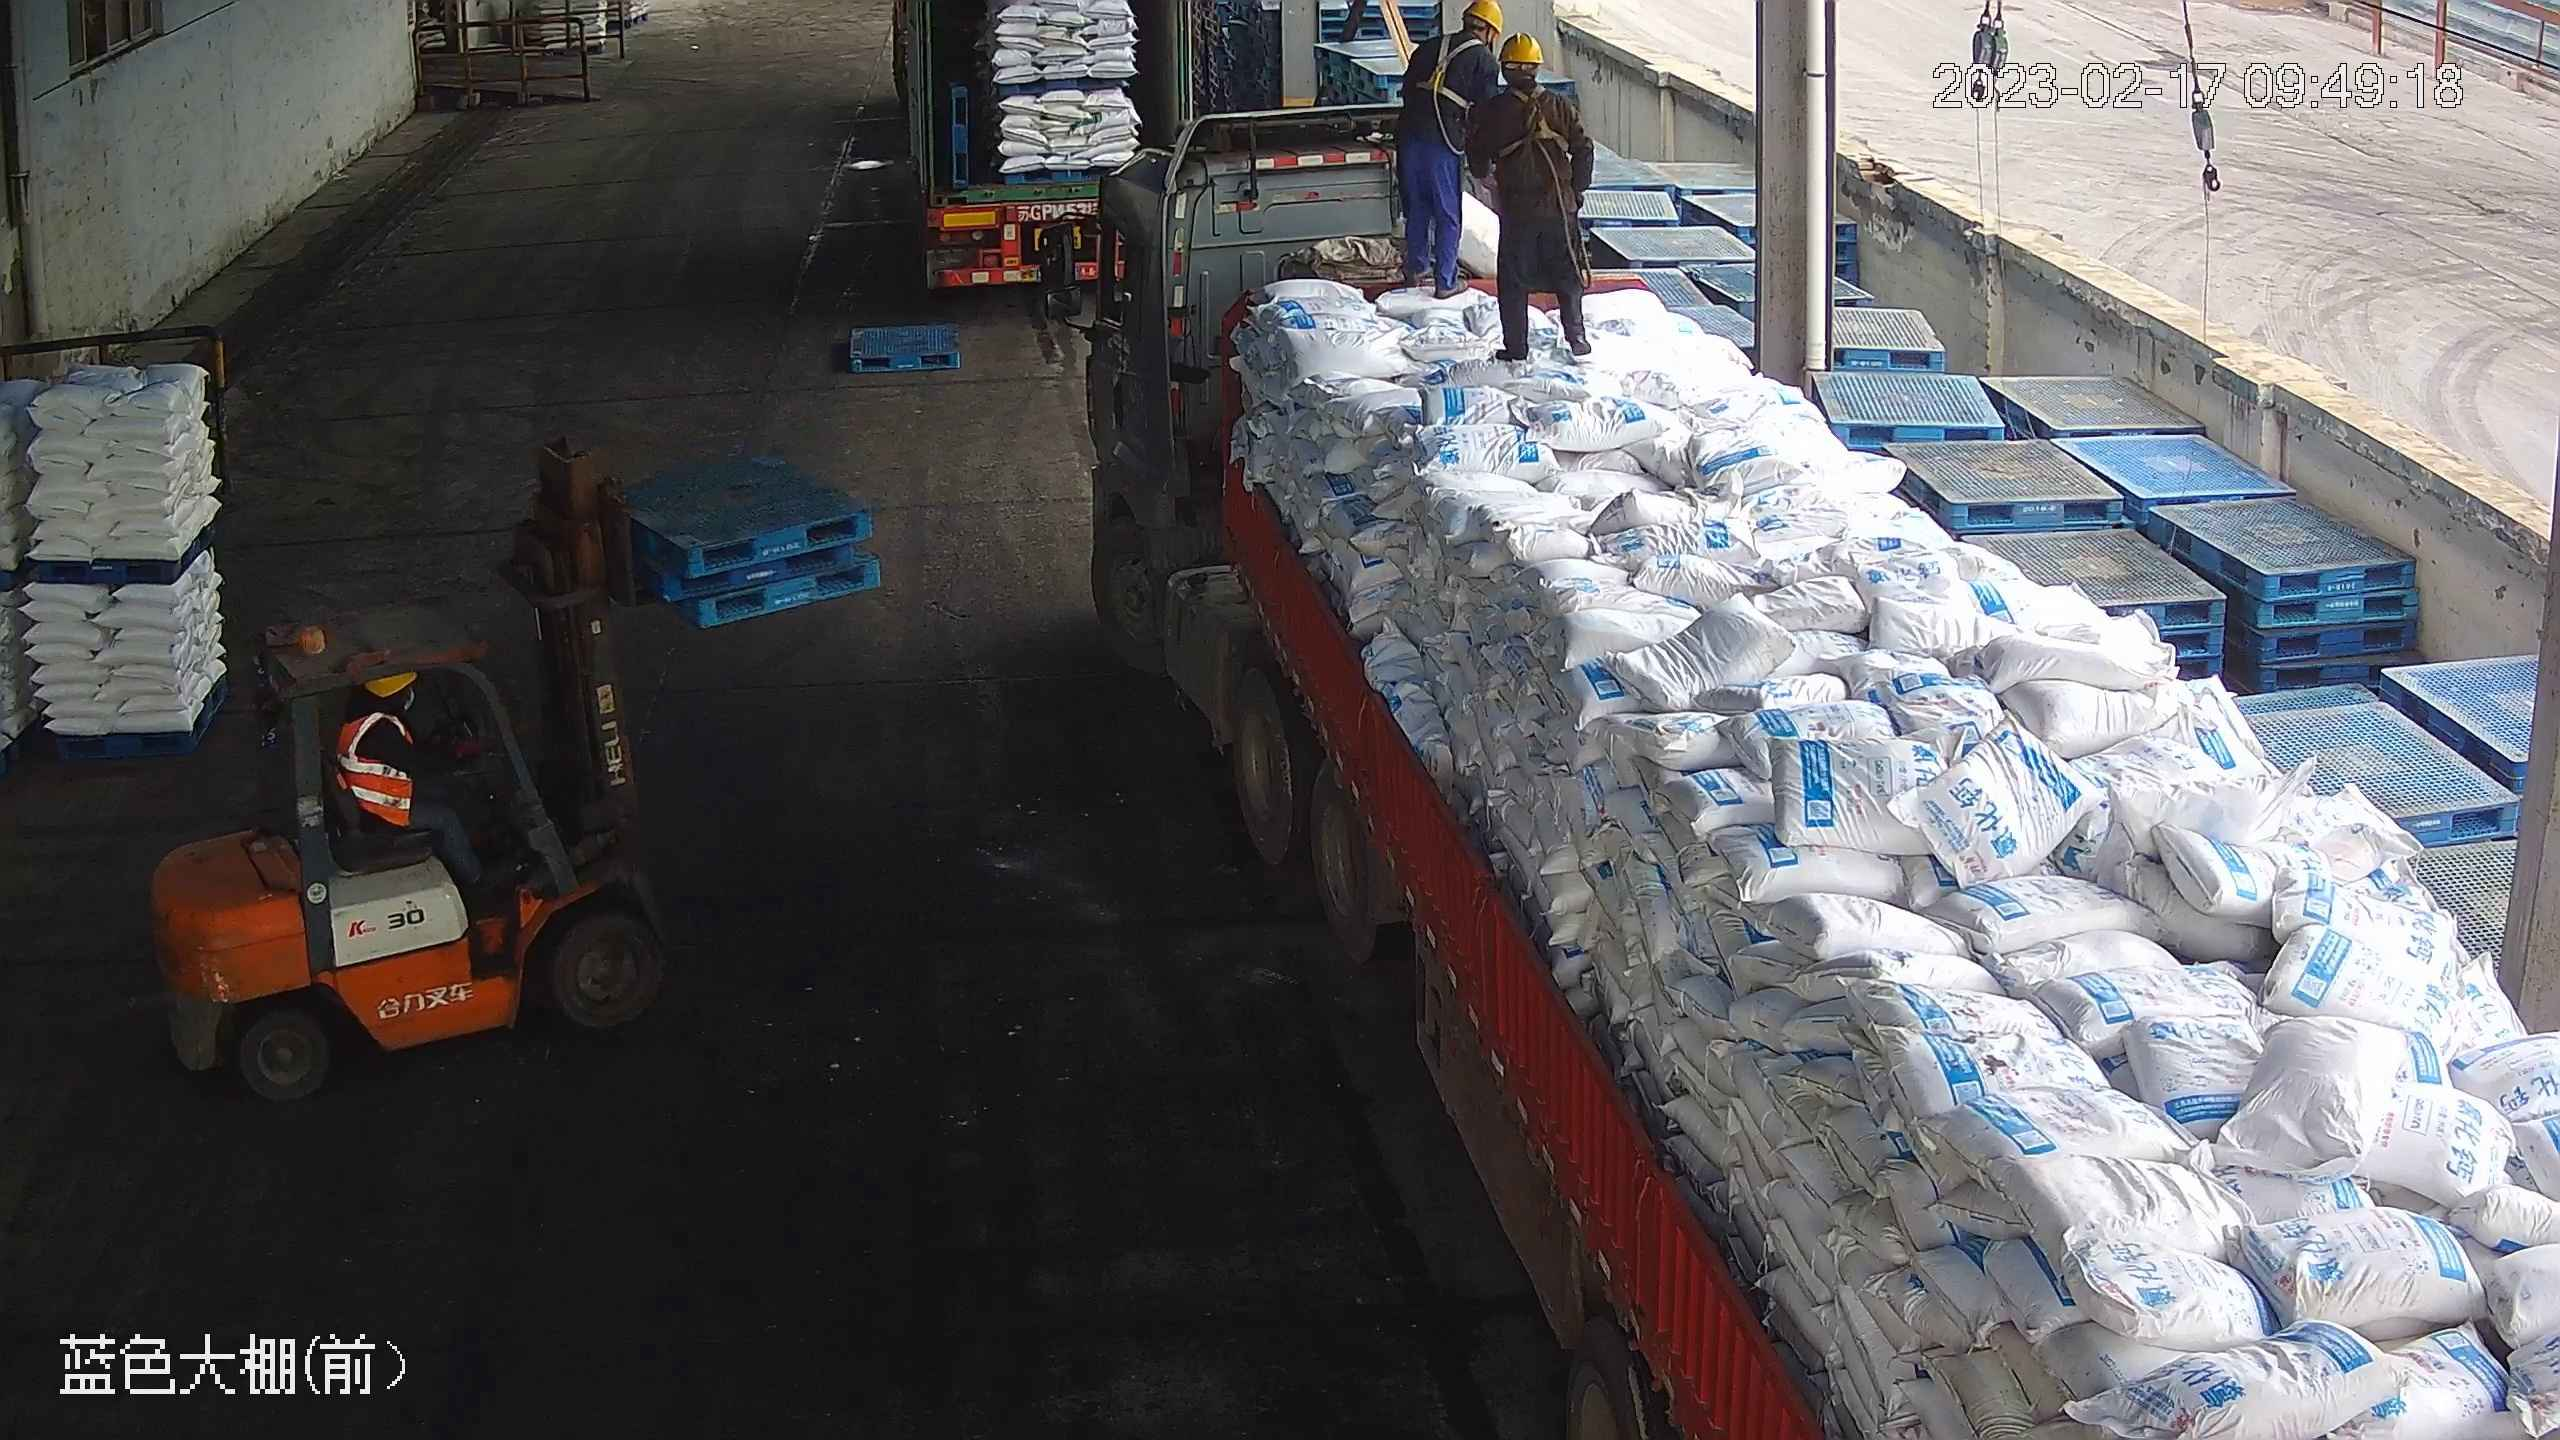belt: (1504, 85, 1575, 157), (1416, 32, 1480, 107)
head: (1484, 30, 1577, 124), (338, 667, 424, 759), (1423, 1, 1506, 77)
helmet: (1497, 29, 1548, 64), (1461, 1, 1506, 32)
people: (1478, 29, 1605, 367), (336, 666, 504, 874), (1391, 3, 1507, 302)
truck: (1027, 150, 2559, 1440), (885, 4, 1209, 341)
